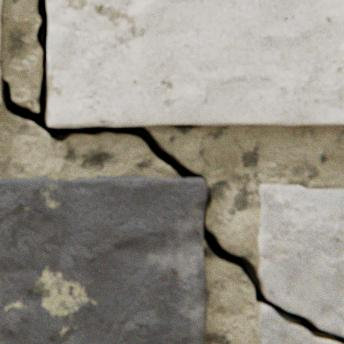brick: (46, 0, 343, 126), (0, 175, 206, 343), (0, 0, 2, 50), (0, 69, 1, 109)
broken_brick: (257, 184, 343, 335), (258, 303, 340, 343)
crack: (1, 0, 343, 343)
